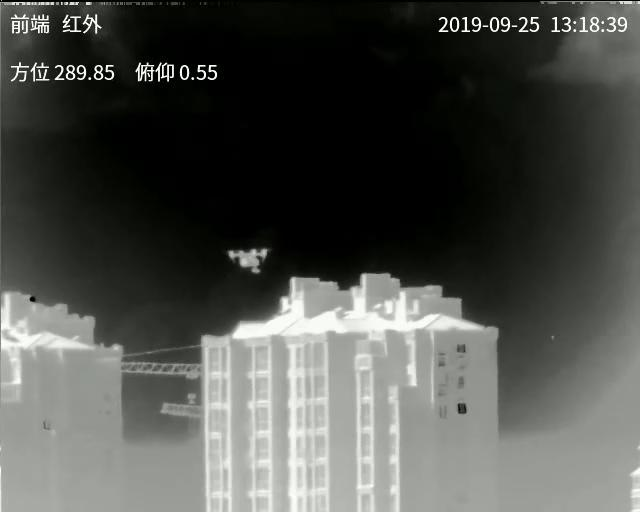uav: (227, 248, 271, 275)
